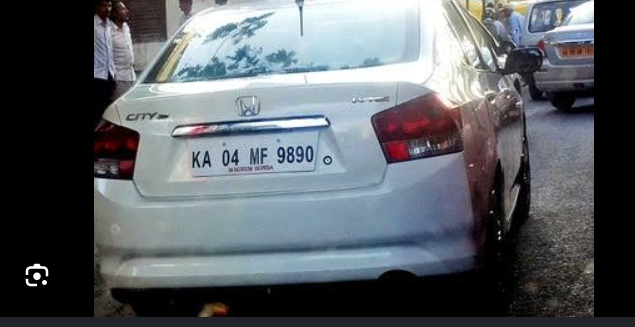licence: (188, 133, 316, 177)
